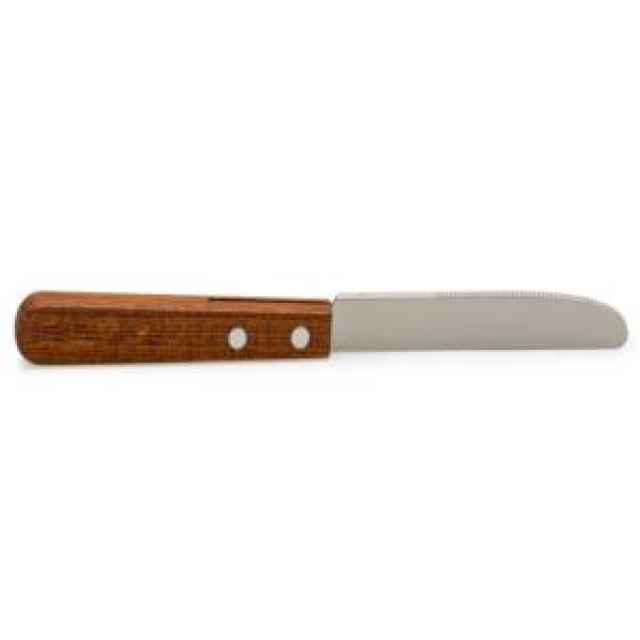knife: (12, 278, 634, 404)
